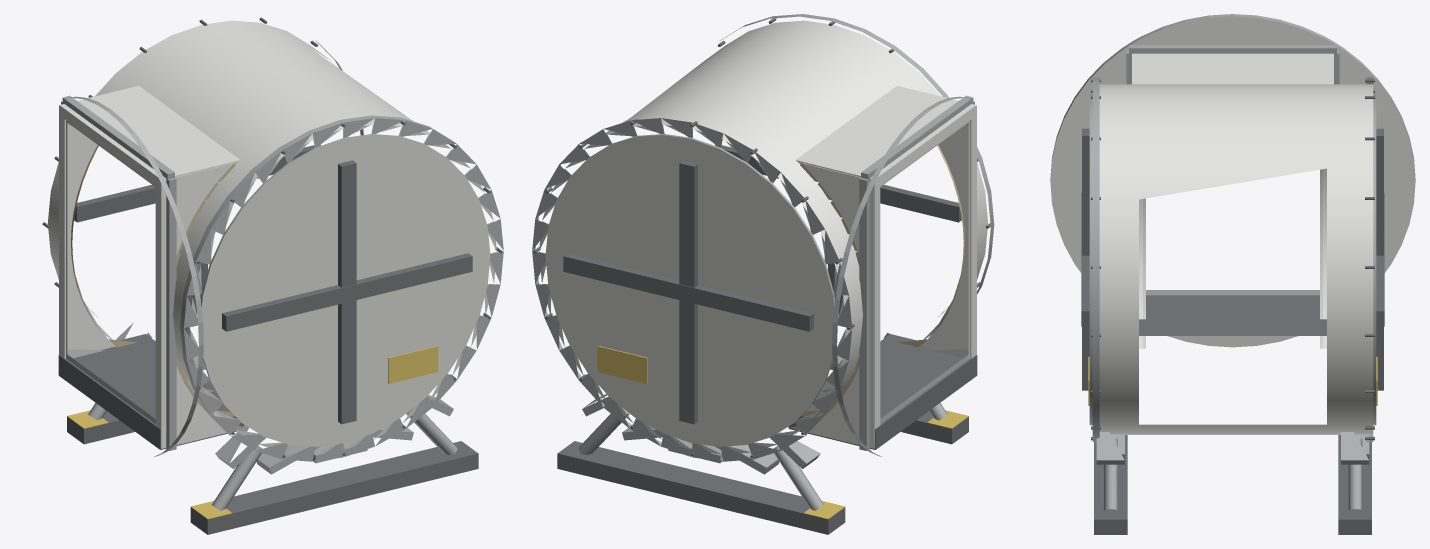
File: habSegJLbf_steel.glb
3 renders of one model, left to right at view 1: azimuth 30°, elevation 25°; view 2: azimuth 150°, elevation 25°; view 3: azimuth 270°, elevation 25°, orthographic.
Parts seen in each view (by area): view 1: habSegJLbf_steel; view 2: habSegJLbf_steel; view 3: habSegJLbf_steel.
Boxes of the visible parts, bbox=[...] form: habSegJLbf_steel: bbox=[42, 17, 503, 534]; habSegJLbf_steel: bbox=[532, 14, 994, 534]; habSegJLbf_steel: bbox=[1050, 14, 1415, 534].
Size of the model in its own units: 2.65 by 2.95 by 2.6.
